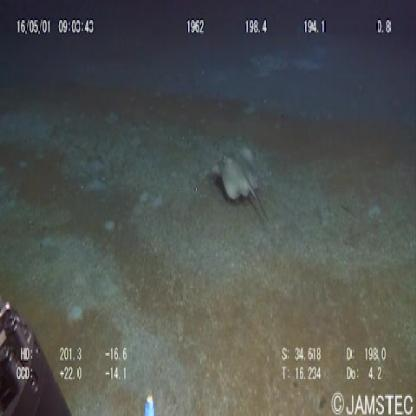Bio: (212, 143, 270, 228)
Rov: (1, 299, 75, 416)
